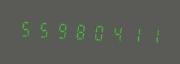eight: (71, 19, 88, 43)
five: (17, 16, 34, 41), (35, 17, 52, 42)
four: (107, 20, 124, 45)
nine: (53, 18, 70, 42)
one: (125, 21, 142, 46), (143, 22, 160, 47)
zero: (89, 19, 106, 44)
